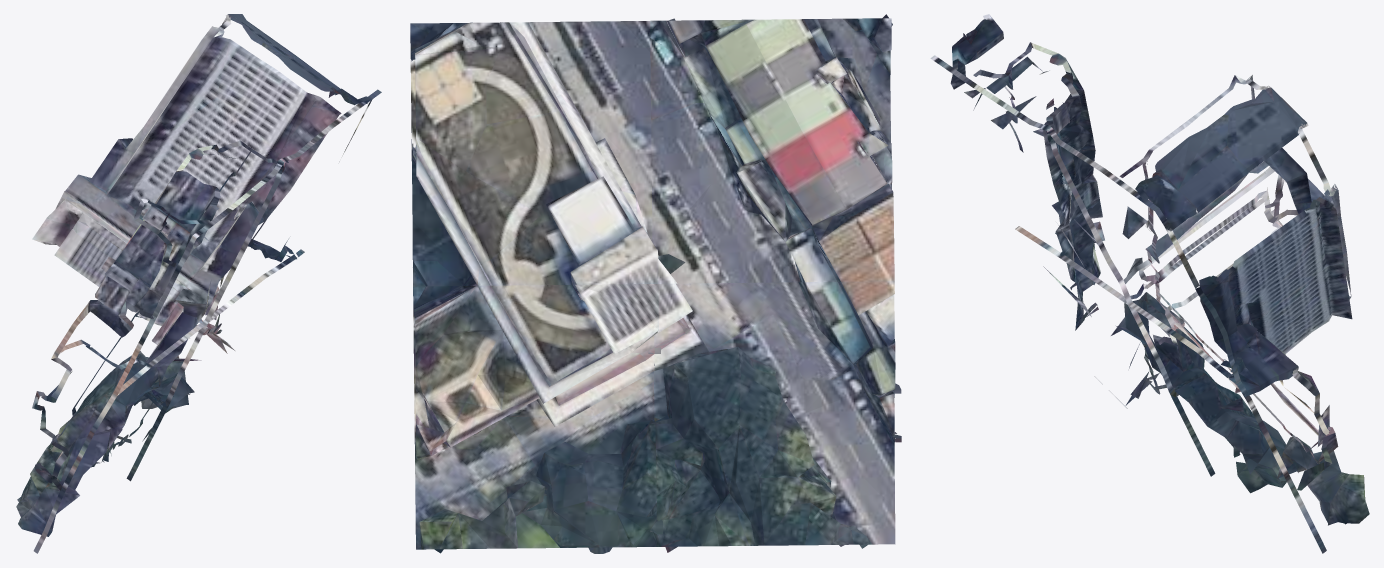
The picture shows the model from 3 angles, left to right: view 1: azimuth 30°, elevation 25°; view 2: azimuth 150°, elevation 25°; view 3: azimuth 270°, elevation 25°; orthographic projection. The views are drawn at different scales.
Bounding box in the file's own units: 76.56 × 81.63 × 71.29.
1 material, 1 textured.
